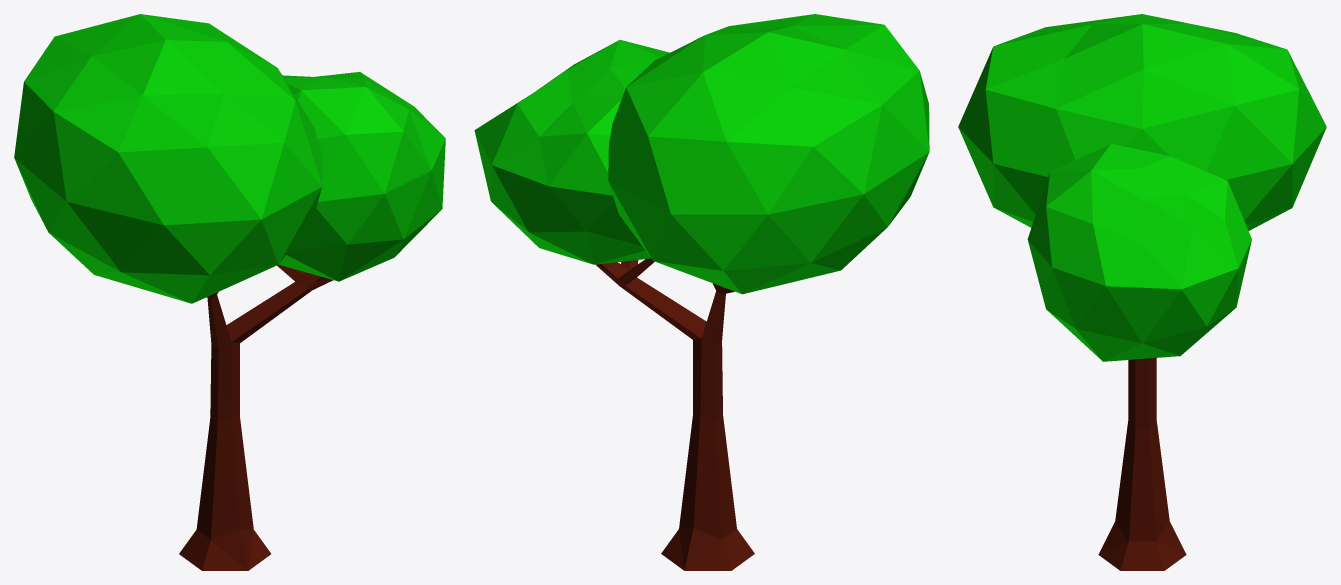
The model's file is LowPolyTree.obj.
3 views of the same model, side by side, from view 1: azimuth 30°, elevation 25°; view 2: azimuth 150°, elevation 25°; view 3: azimuth 270°, elevation 25° (orthographic). The views are drawn at different scales.
Parts seen in each view (by area): view 1: 棱角球.001, 棱角球, 柱体; view 2: 棱角球.001, 棱角球, 柱体; view 3: 棱角球.001, 棱角球, 柱体.
Part boxes in pixels (x1,y1,x2,y2): 棱角球.001: [14, 14, 322, 303]; 棱角球: [279, 72, 445, 281]; 柱体: [179, 264, 333, 570]; 棱角球.001: [608, 14, 929, 294]; 棱角球: [474, 40, 669, 264]; 柱体: [596, 258, 754, 570]; 棱角球.001: [958, 14, 1326, 230]; 棱角球: [1027, 143, 1251, 361]; 柱体: [1098, 358, 1186, 570].
Size of the model in its own units: 9.93 by 12.59 by 8.36.
